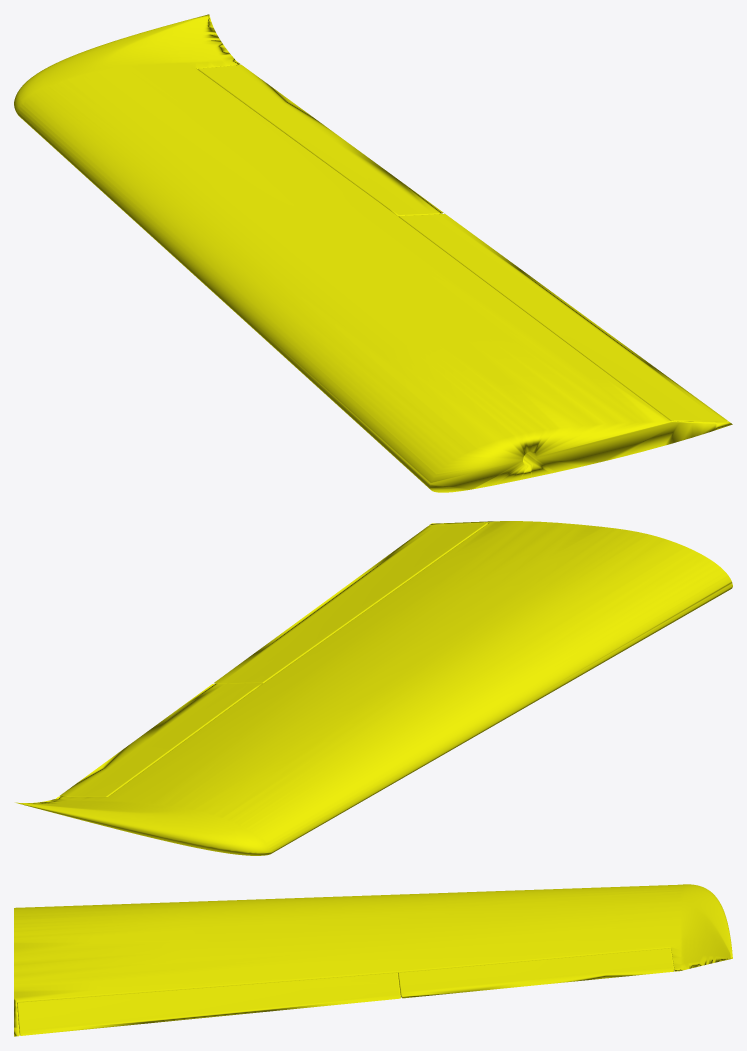
Rendered from E10_wing.glb.
The picture shows the model from 3 angles, top to bottom: view 1: azimuth 30°, elevation 25°; view 2: azimuth 150°, elevation 25°; view 3: azimuth 270°, elevation 25°; orthographic projection. The views are drawn at different scales.
Visible parts, largest first — view 1: E10 Wing; view 2: E10 Wing; view 3: E10 Wing.
Part boxes in pixels (x1,y1,x2,y2): E10 Wing: (14, 14, 732, 492); E10 Wing: (15, 521, 732, 855); E10 Wing: (14, 884, 732, 1036).
Size of the model in its own units: 0.0488 by 0.0133 by 0.1316.
